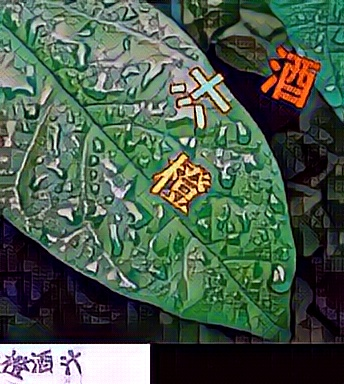B3C8: (149, 147, 212, 214)
BEC6: (259, 45, 322, 112)
D6AD: (172, 61, 235, 128)
